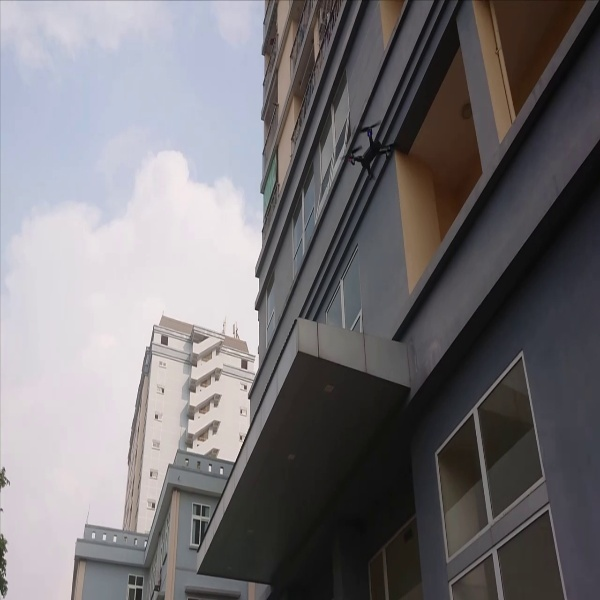drone: (340, 119, 401, 184)
